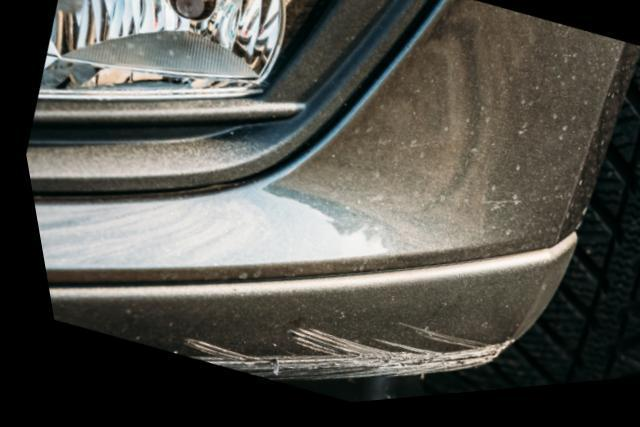lamp broken: (34, 0, 334, 103)
scratch: (141, 326, 505, 387)
